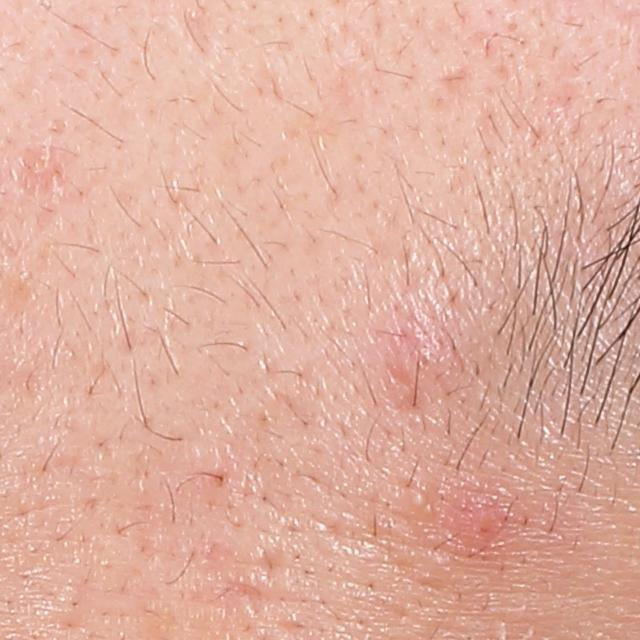atrophic_scar: (14, 102, 86, 208), (172, 12, 218, 76), (439, 58, 477, 96)
